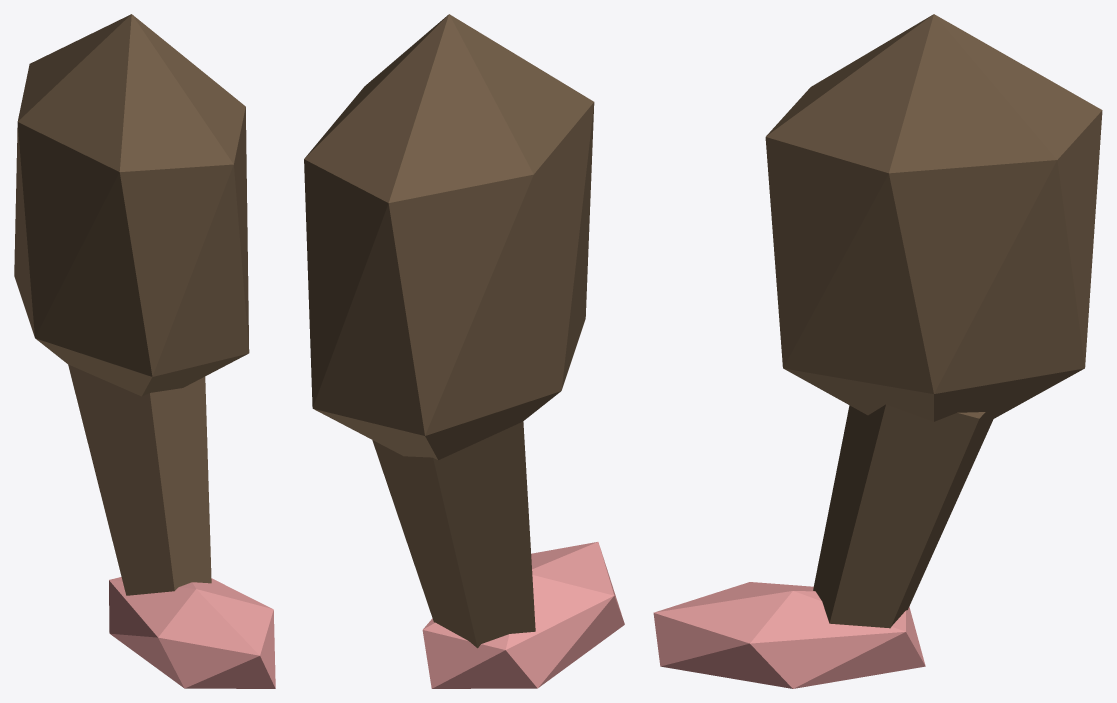
Rendered from rat_0_leg_fl.glb.
The picture shows the model from 3 angles, left to right: view 1: azimuth 30°, elevation 25°; view 2: azimuth 150°, elevation 25°; view 3: azimuth 270°, elevation 25°; orthographic projection. The views are drawn at different scales.
Parts seen in each view (by area): view 1: rat_0_leg_fl; view 2: rat_0_leg_fl; view 3: rat_0_leg_fl.
Part boxes in pixels (x1,y1,x2,y2): rat_0_leg_fl: (14,14,275,688); rat_0_leg_fl: (304,14,624,688); rat_0_leg_fl: (653,14,1102,688).
Size of the model in its own units: 0.0606 by 0.182 by 0.1115.
